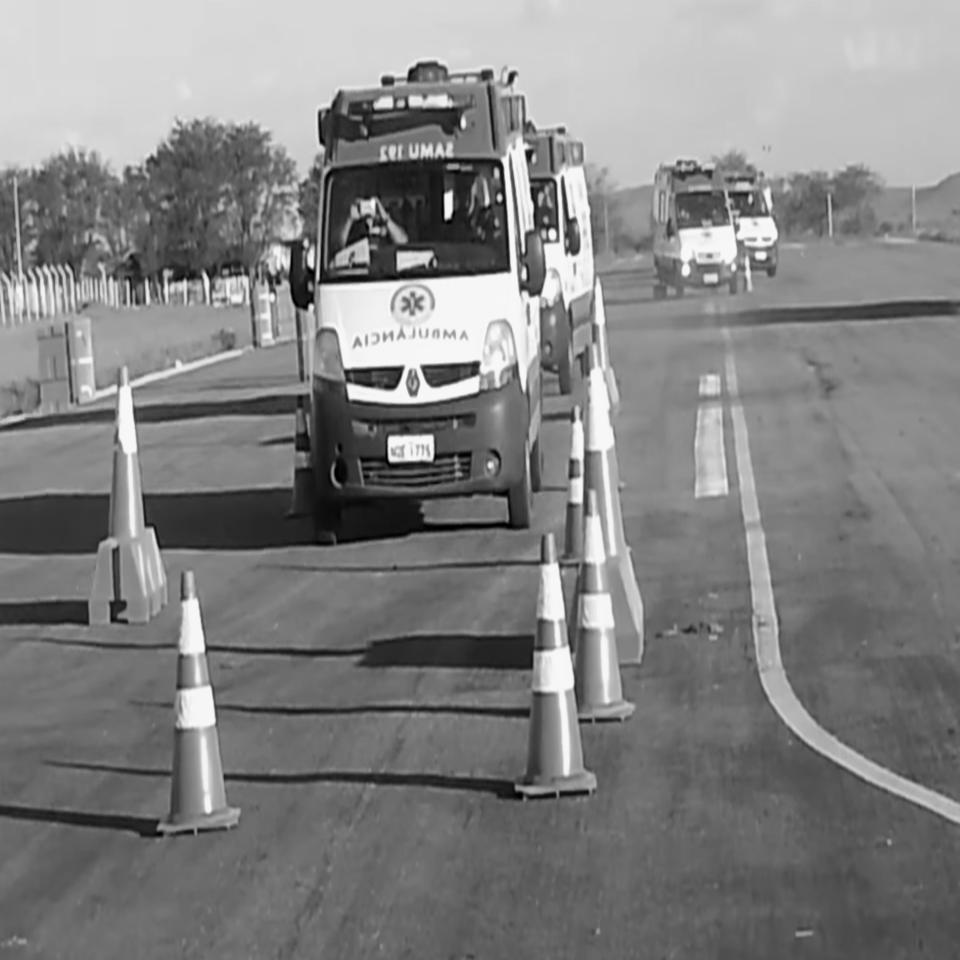ambulancia: (288, 56, 548, 528), (652, 154, 742, 299)
